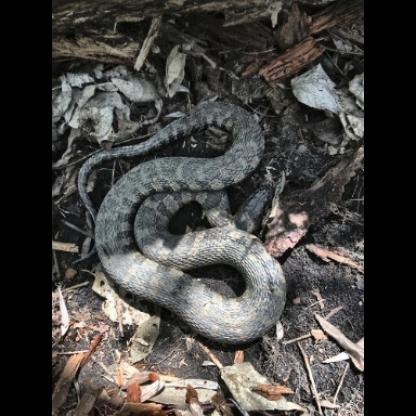Snake: (72, 94, 294, 349)
